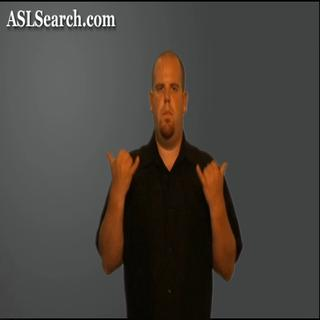now: (98, 145, 237, 193)
